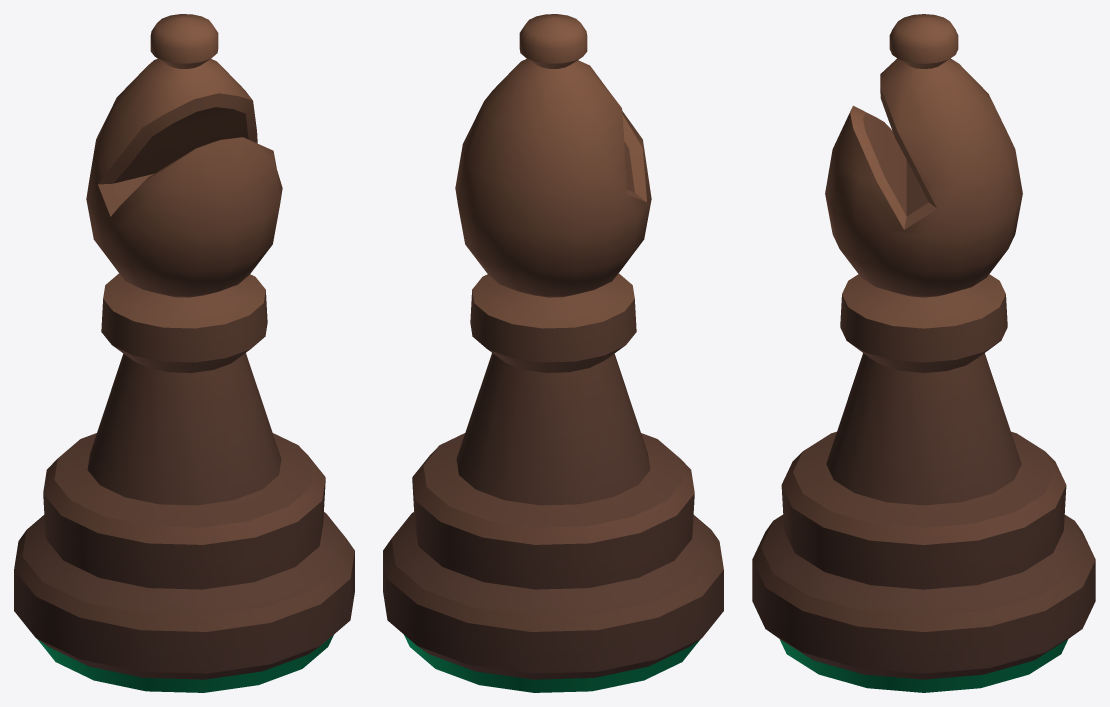
Rendered from chess_black_bishop.gltf.
The picture shows the model from 3 angles, left to right: view 1: azimuth 30°, elevation 25°; view 2: azimuth 150°, elevation 25°; view 3: azimuth 270°, elevation 25°; orthographic projection.
Parts seen in each view (by area): view 1: chess_black_bishop; view 2: chess_black_bishop; view 3: chess_black_bishop.
Boxes of the visible parts, x1,y1,x2,y2 form: chess_black_bishop: (14, 14, 354, 692); chess_black_bishop: (383, 14, 723, 692); chess_black_bishop: (752, 14, 1095, 692).
Bounding box in the file's own units: 0.75 × 1.47 × 0.75.
1 material, 1 textured.
